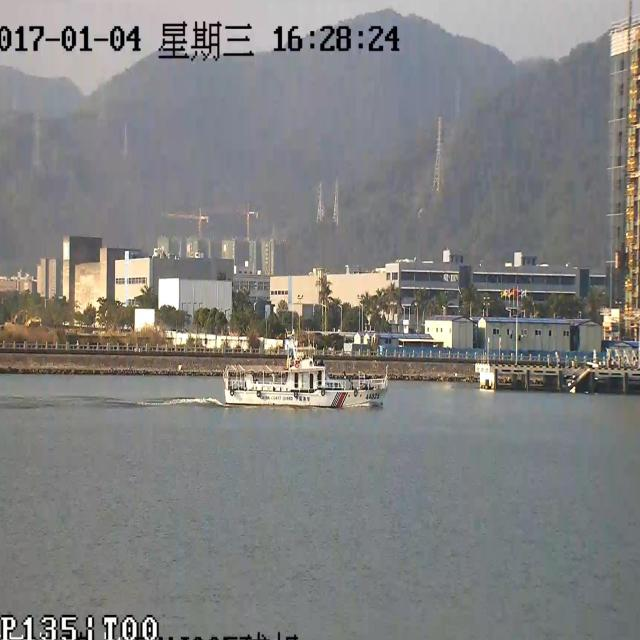houseboat: (215, 332, 393, 426)
